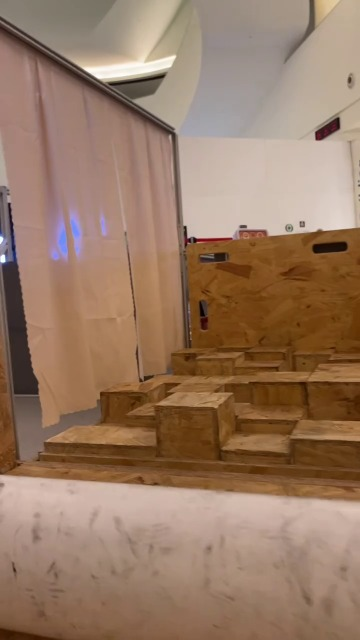curtain: (0, 19, 180, 410)
